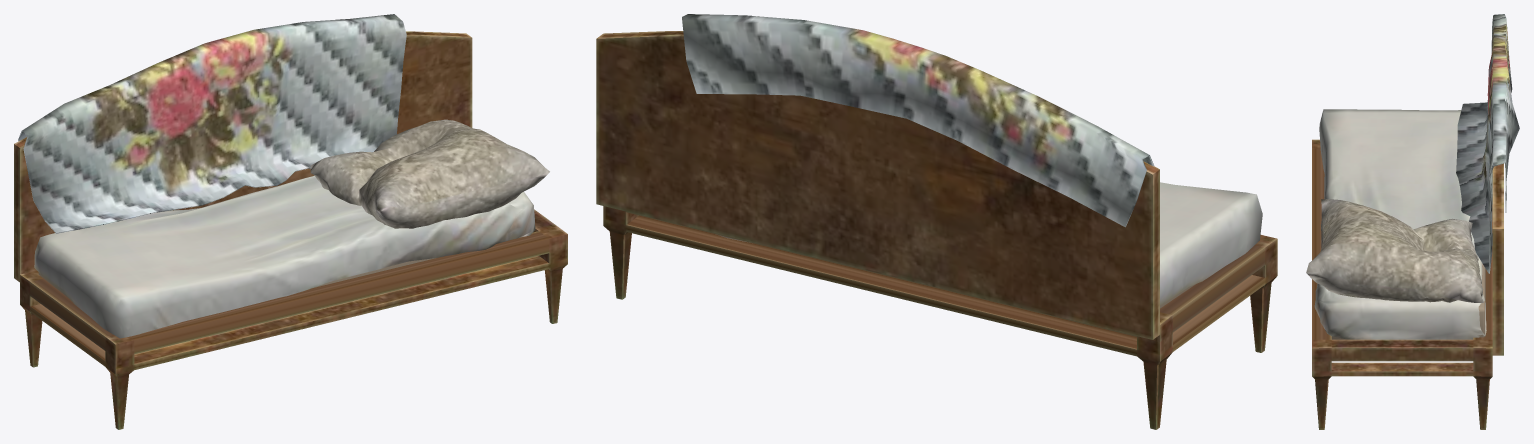
File: m_vintage_day_bed.glb
3 renders of one model, left to right at view 1: azimuth 30°, elevation 25°; view 2: azimuth 150°, elevation 25°; view 3: azimuth 270°, elevation 25°, orthographic. The views are drawn at different scales.
Parts seen in each view (by area): view 1: vintage_day_bed; view 2: vintage_day_bed; view 3: vintage_day_bed.
Part boxes in pixels (bbox=[...]): vintage_day_bed: bbox=[14, 14, 567, 429]; vintage_day_bed: bbox=[596, 14, 1277, 429]; vintage_day_bed: bbox=[1306, 14, 1519, 429].
Bounding box in the file's own units: 1.97 × 1.13 × 0.8547.
Materials: 1 (1 with a texture image).
